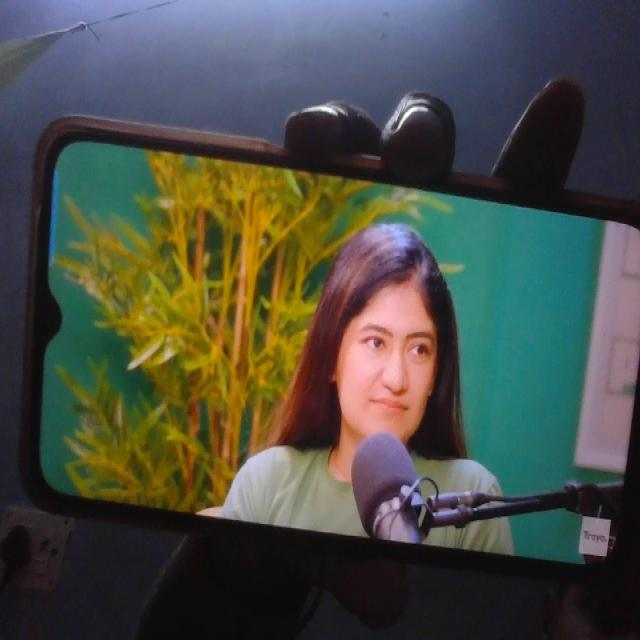fake: (324, 219, 447, 452)
